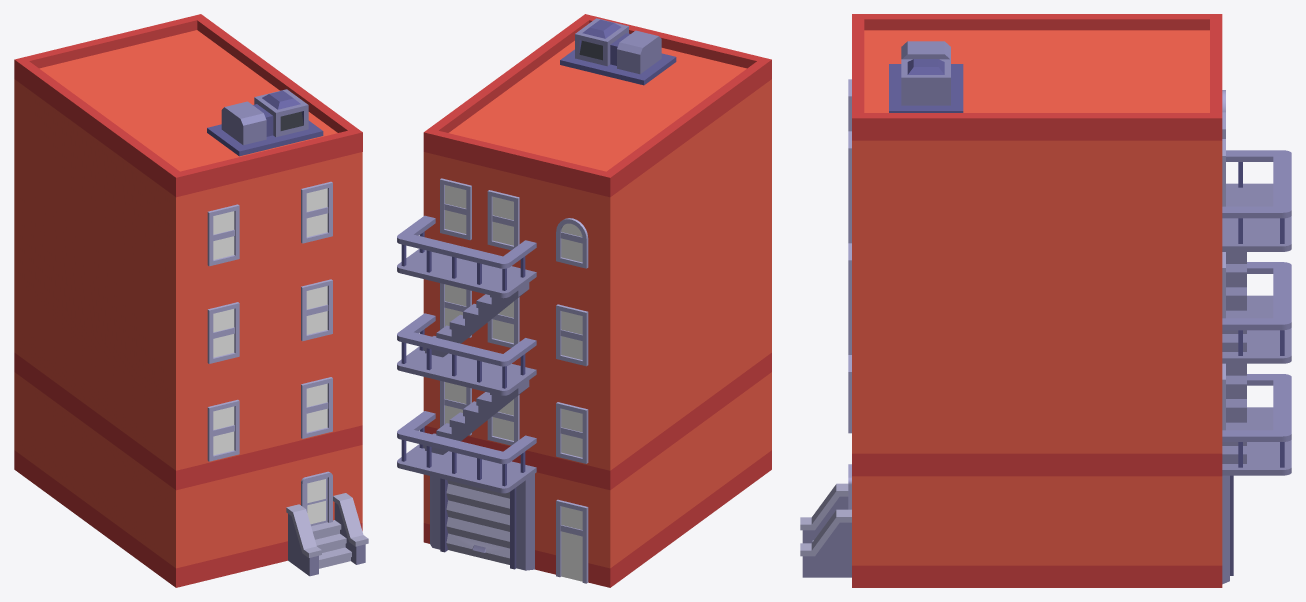
The model's file is Building_02.fbx.
3 renders of one model, left to right at view 1: azimuth 30°, elevation 25°; view 2: azimuth 150°, elevation 25°; view 3: azimuth 270°, elevation 25°, orthographic. The views are drawn at different scales.
Parts seen in each view (by area): view 1: mergedBlocks; view 2: mergedBlocks; view 3: mergedBlocks.
Part boxes in pixels (x1,y1,x2,y2): mergedBlocks: (14, 14, 368, 587); mergedBlocks: (397, 14, 771, 587); mergedBlocks: (800, 14, 1291, 587).
Size of the model in its own units: 100 by 222 by 199.
